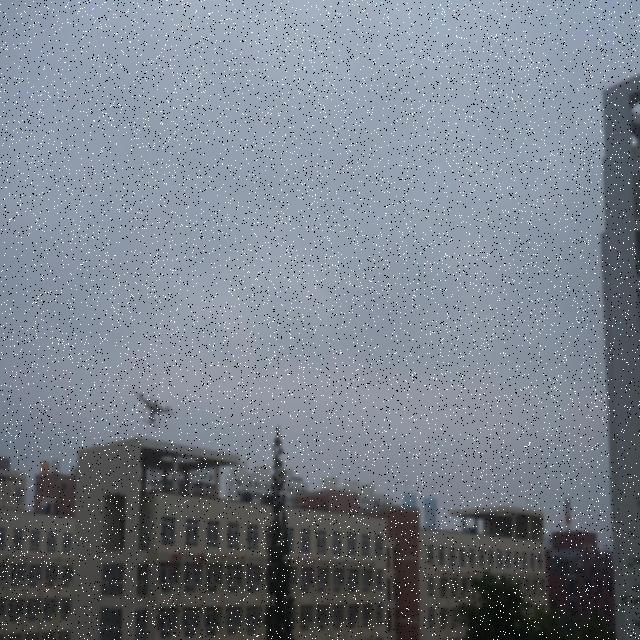UAV: (131, 391, 176, 428)
